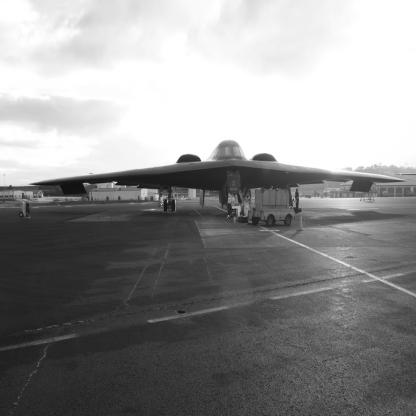B2: (30, 140, 409, 219)
